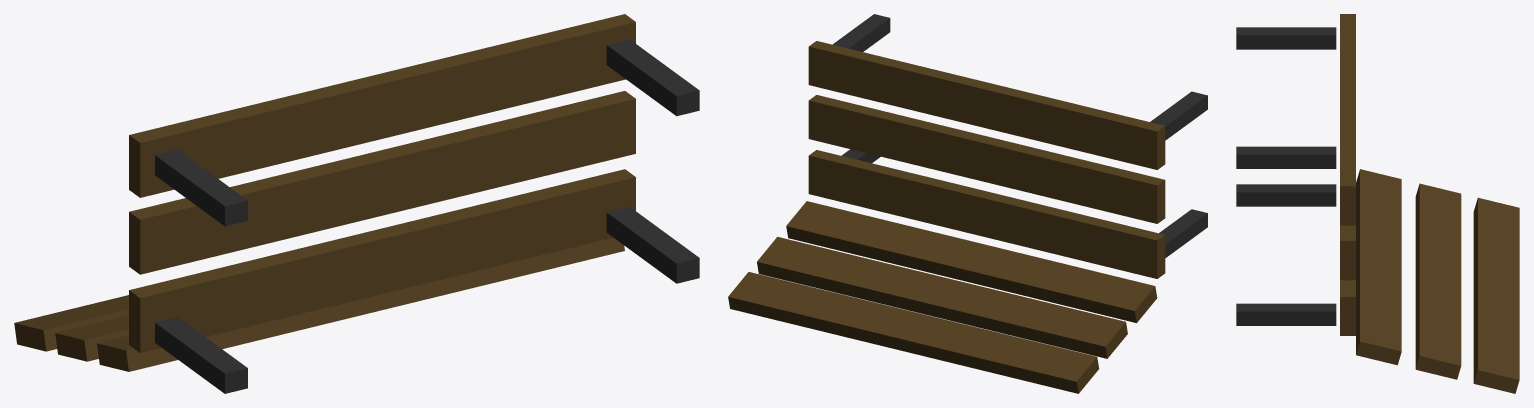
File: chair.fbx
The picture shows the model from 3 angles, left to right: view 1: azimuth 30°, elevation 25°; view 2: azimuth 150°, elevation 25°; view 3: azimuth 270°, elevation 25°; orthographic projection. The views are drawn at different scales.
Visible parts, largest first — view 1: chair; view 2: chair; view 3: chair.
Boxes of the visible parts, <box> form: chair: <box>14,14,699,393</box>; chair: <box>728,14,1207,393</box>; chair: <box>1236,14,1519,393</box>.
Size of the model in its own units: 57.42 by 32.23 by 39.85.
